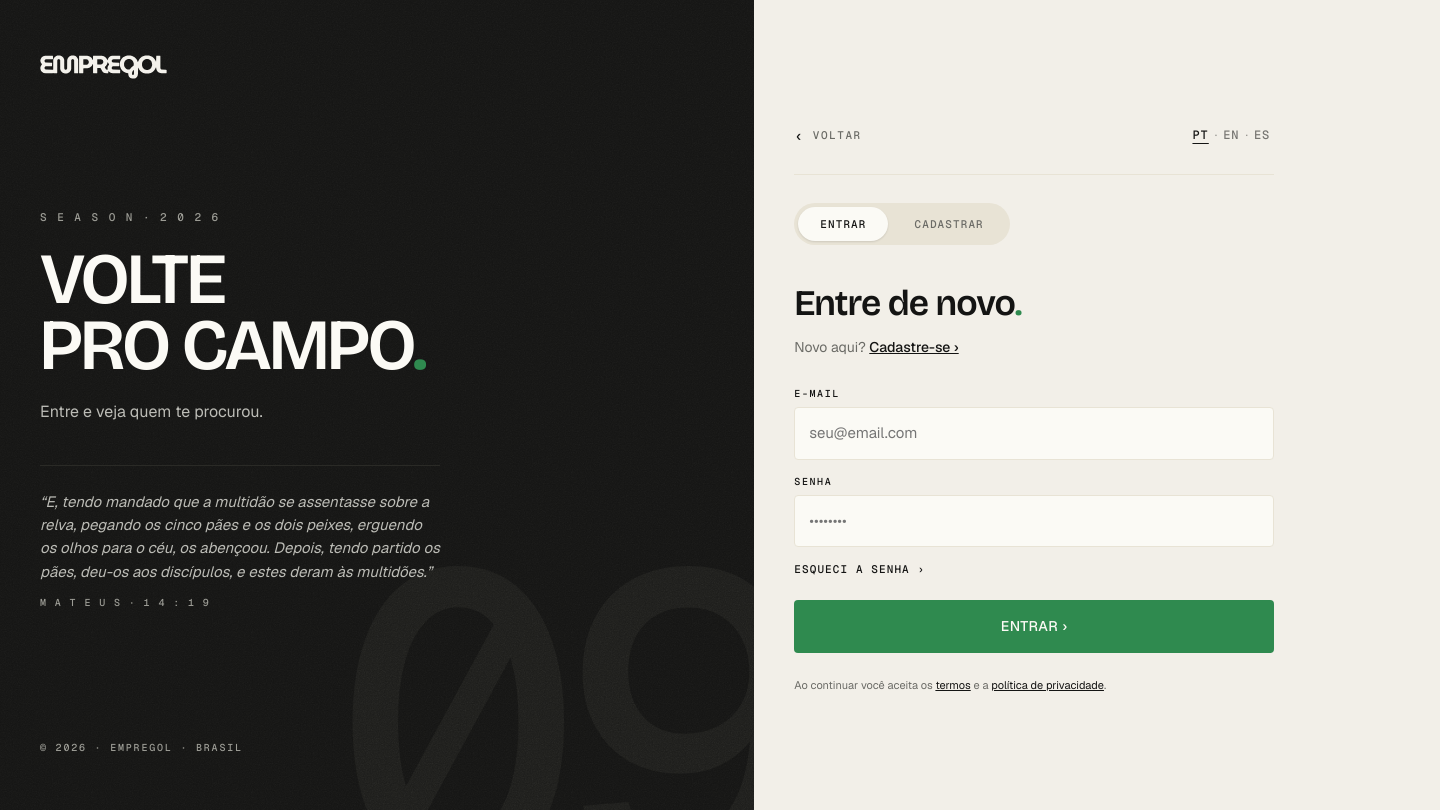
it: Seletor de idioma › aparece também nas telas de login, que não têm o nav do site
Click the button named "English".
click(1231, 135)  # box top-left (1219, 120), bottom-right (1244, 150)
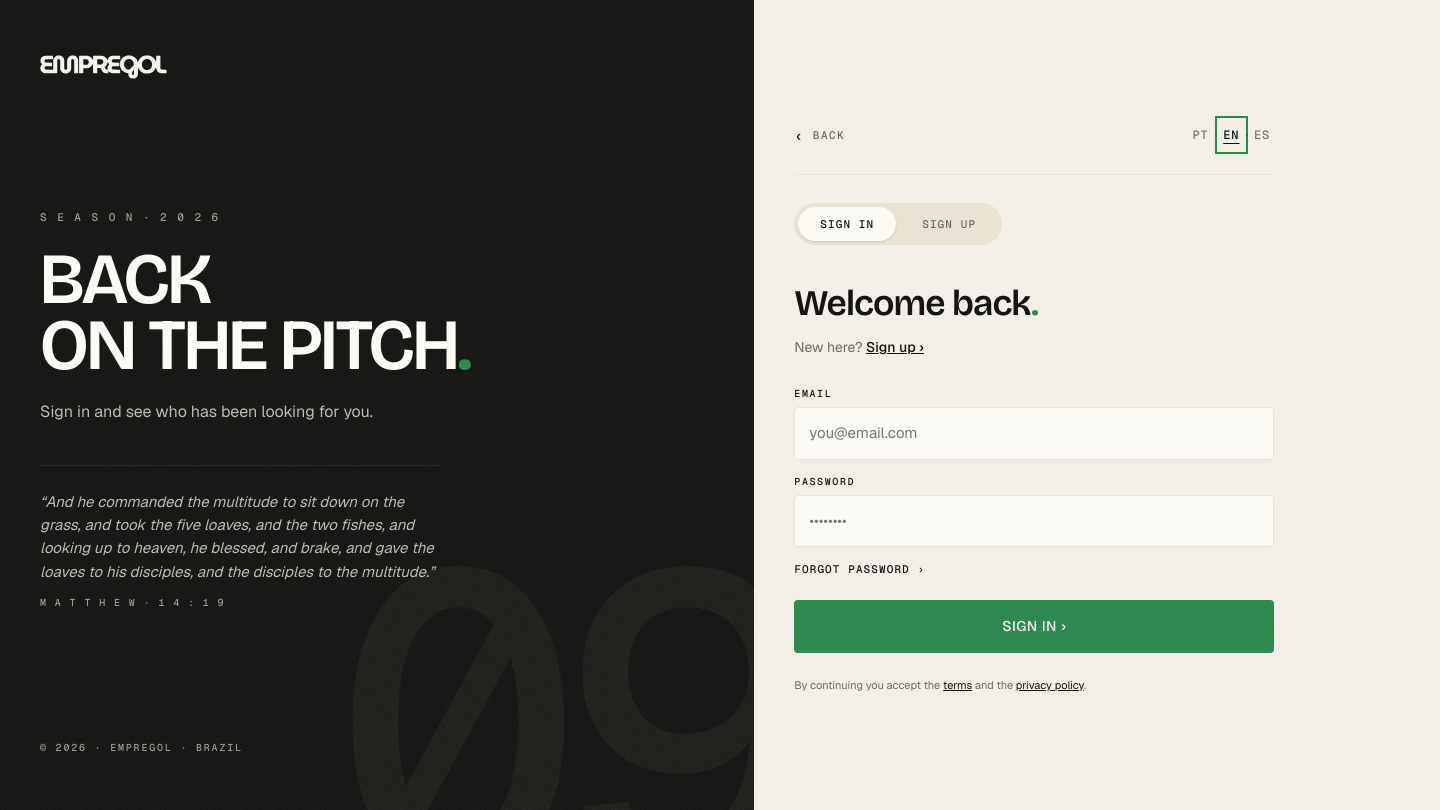
Now the heading "Welcome back." is shown, box top-left (794, 282), bottom-right (1038, 325)
